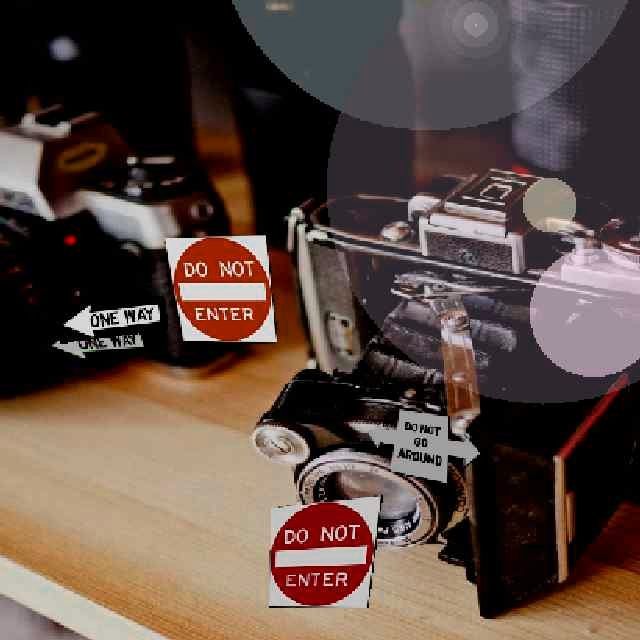DO_NOT_ENTER: (267, 493, 381, 607), (162, 233, 276, 342)
DO_NOT_GO_AROUND: (366, 407, 480, 483)
ONE_WAY_ left: (53, 293, 167, 342), (38, 322, 152, 362)
